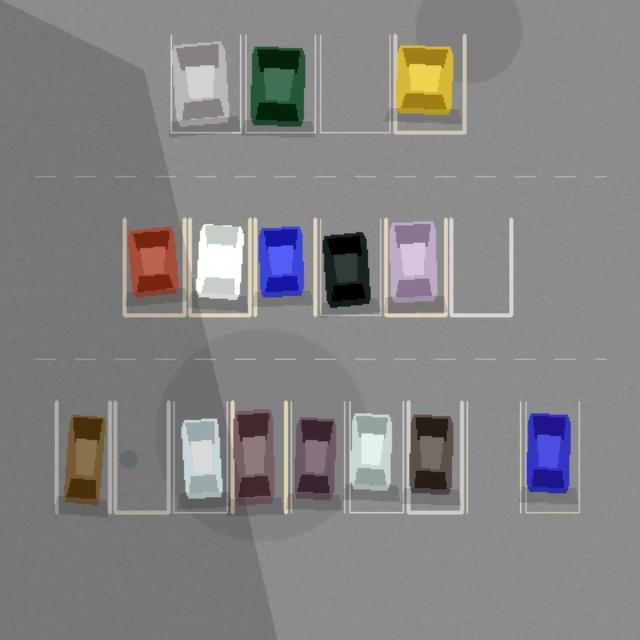space-empty: (320, 35, 389, 132), (115, 401, 168, 512), (467, 401, 520, 512), (451, 219, 511, 315)
space-occupied: (245, 35, 315, 132), (171, 35, 240, 132), (395, 35, 464, 132), (173, 401, 227, 512), (349, 401, 403, 512), (525, 401, 579, 512), (56, 401, 109, 512), (232, 401, 285, 512), (291, 401, 344, 512), (408, 401, 461, 512), (124, 219, 184, 315), (189, 219, 249, 315), (255, 219, 315, 315), (320, 219, 380, 315), (385, 219, 445, 315)
